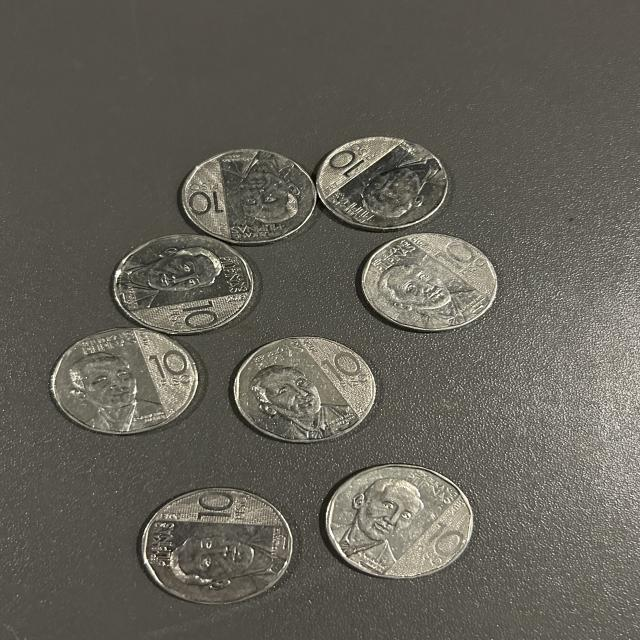10_New_Front: (154, 491, 271, 606), (245, 356, 372, 449), (313, 143, 447, 230), (68, 329, 192, 419), (378, 240, 502, 328), (358, 478, 476, 570), (133, 236, 250, 324), (192, 155, 286, 235)
